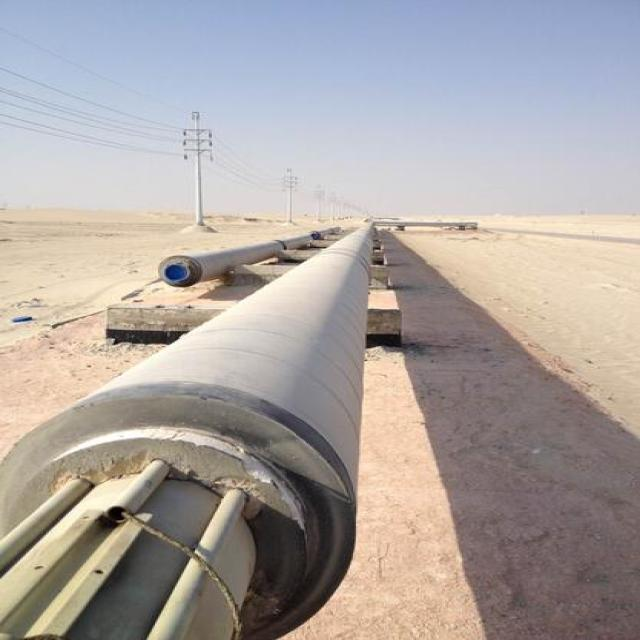gas: (2, 226, 370, 640), (158, 228, 339, 286)
